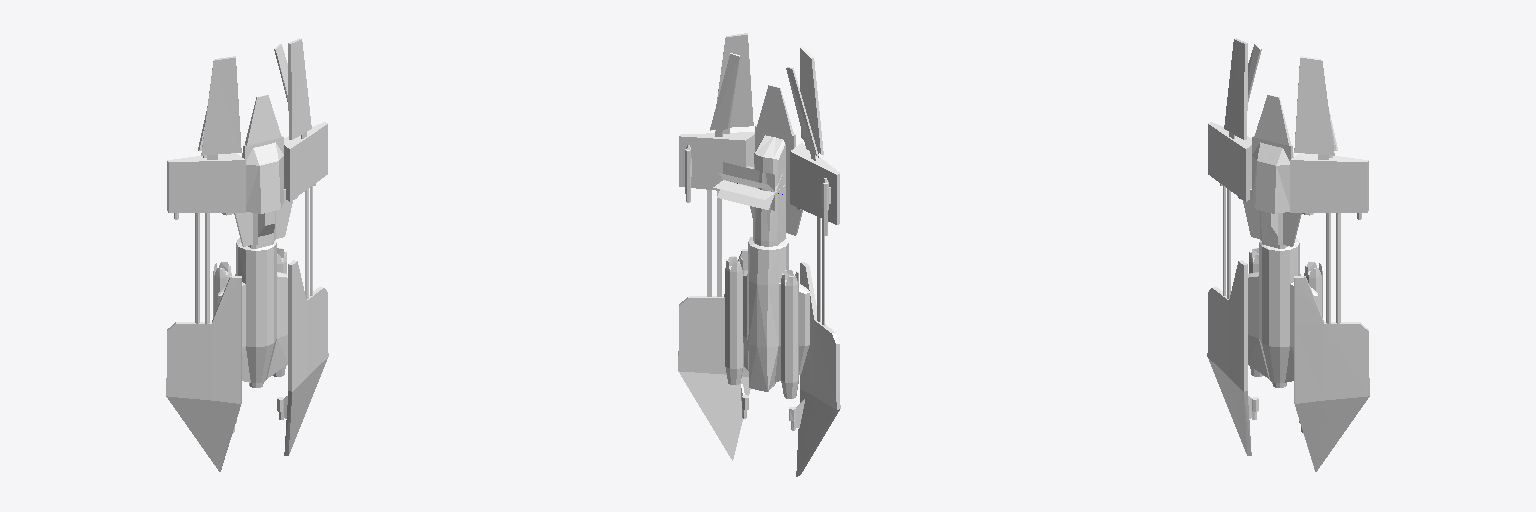
Rendered from NV_BLACK_SUN_FIGHTER.obj.
The picture shows the model from 3 angles: view 1: azimuth 30°, elevation 25°; view 2: azimuth 150°, elevation 25°; view 3: azimuth 330°, elevation 25°; orthographic projection.
Parts seen in each view (by area): view 1: NV_black_sun_fighter; view 2: NV_black_sun_fighter, MuzzleA_00_Flash, MuzzleA_01_Flash; view 3: NV_black_sun_fighter.
Part boxes in pixels (left/top/right/bottom): NV_black_sun_fighter: left=166, top=38, right=328, bottom=471; NV_black_sun_fighter: left=678, top=33, right=840, bottom=476; MuzzleA_00_Flash: left=713, top=162, right=784, bottom=210; MuzzleA_01_Flash: left=717, top=166, right=782, bottom=209; NV_black_sun_fighter: left=1207, top=38, right=1369, bottom=471.
Size of the model in its own units: 9.02 by 22.36 by 2.91.